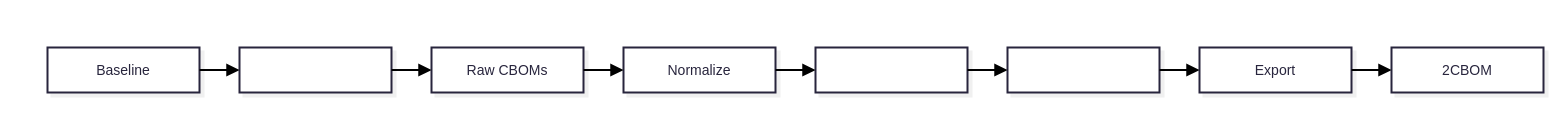
Some shapes in this 1565 by 114 pixel diagram are drawn without their labels. Here are the shapes that lost their labels. From the top down, the centre of each, then its label:
At (x=317, y=71): "Runner".
At (x=893, y=71): "Evaluate".
At (x=1085, y=71): "Reconcile".
